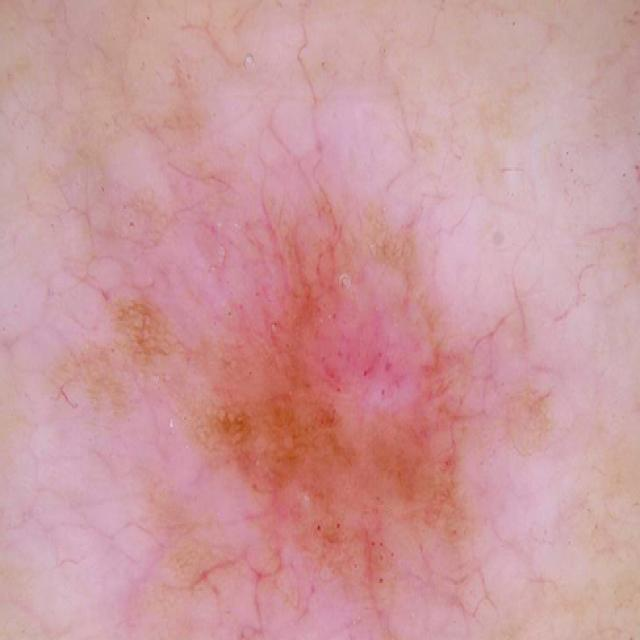Dermatofibroma: (80, 146, 620, 640)
